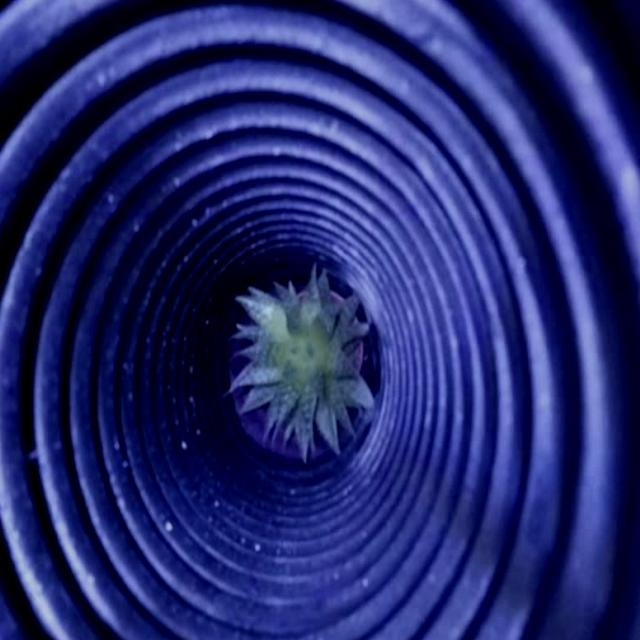leaf: (234, 276, 372, 450)
